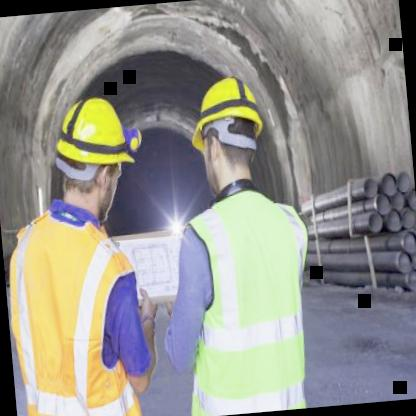helmet: (181, 67, 278, 207), (47, 86, 141, 224)
